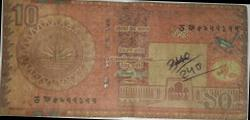10 taka: (3, 1, 249, 120)
